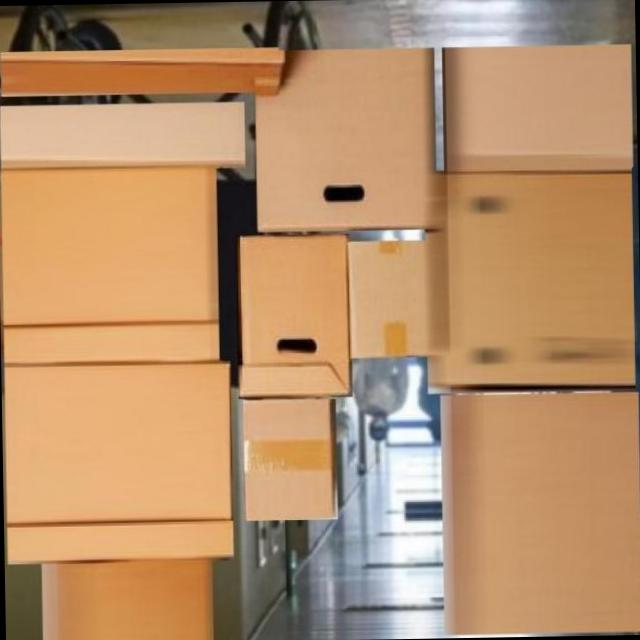box: (421, 162, 639, 396), (437, 387, 640, 638), (0, 357, 238, 566), (0, 158, 224, 367), (252, 43, 441, 234), (440, 40, 636, 172), (234, 230, 356, 400), (0, 100, 249, 172), (38, 553, 216, 640), (0, 45, 285, 97), (240, 396, 340, 522), (346, 236, 438, 359)
